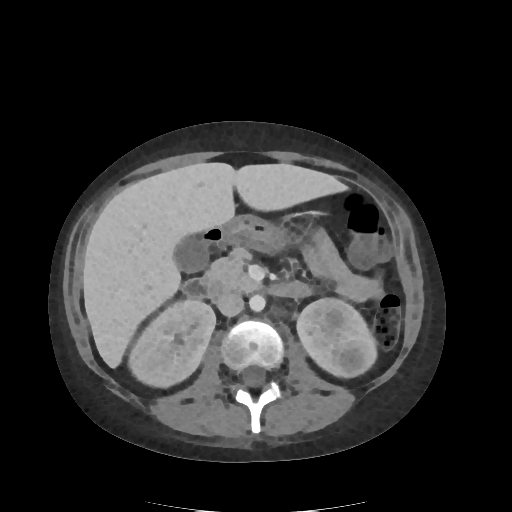Lesion: (335, 345, 368, 374)
